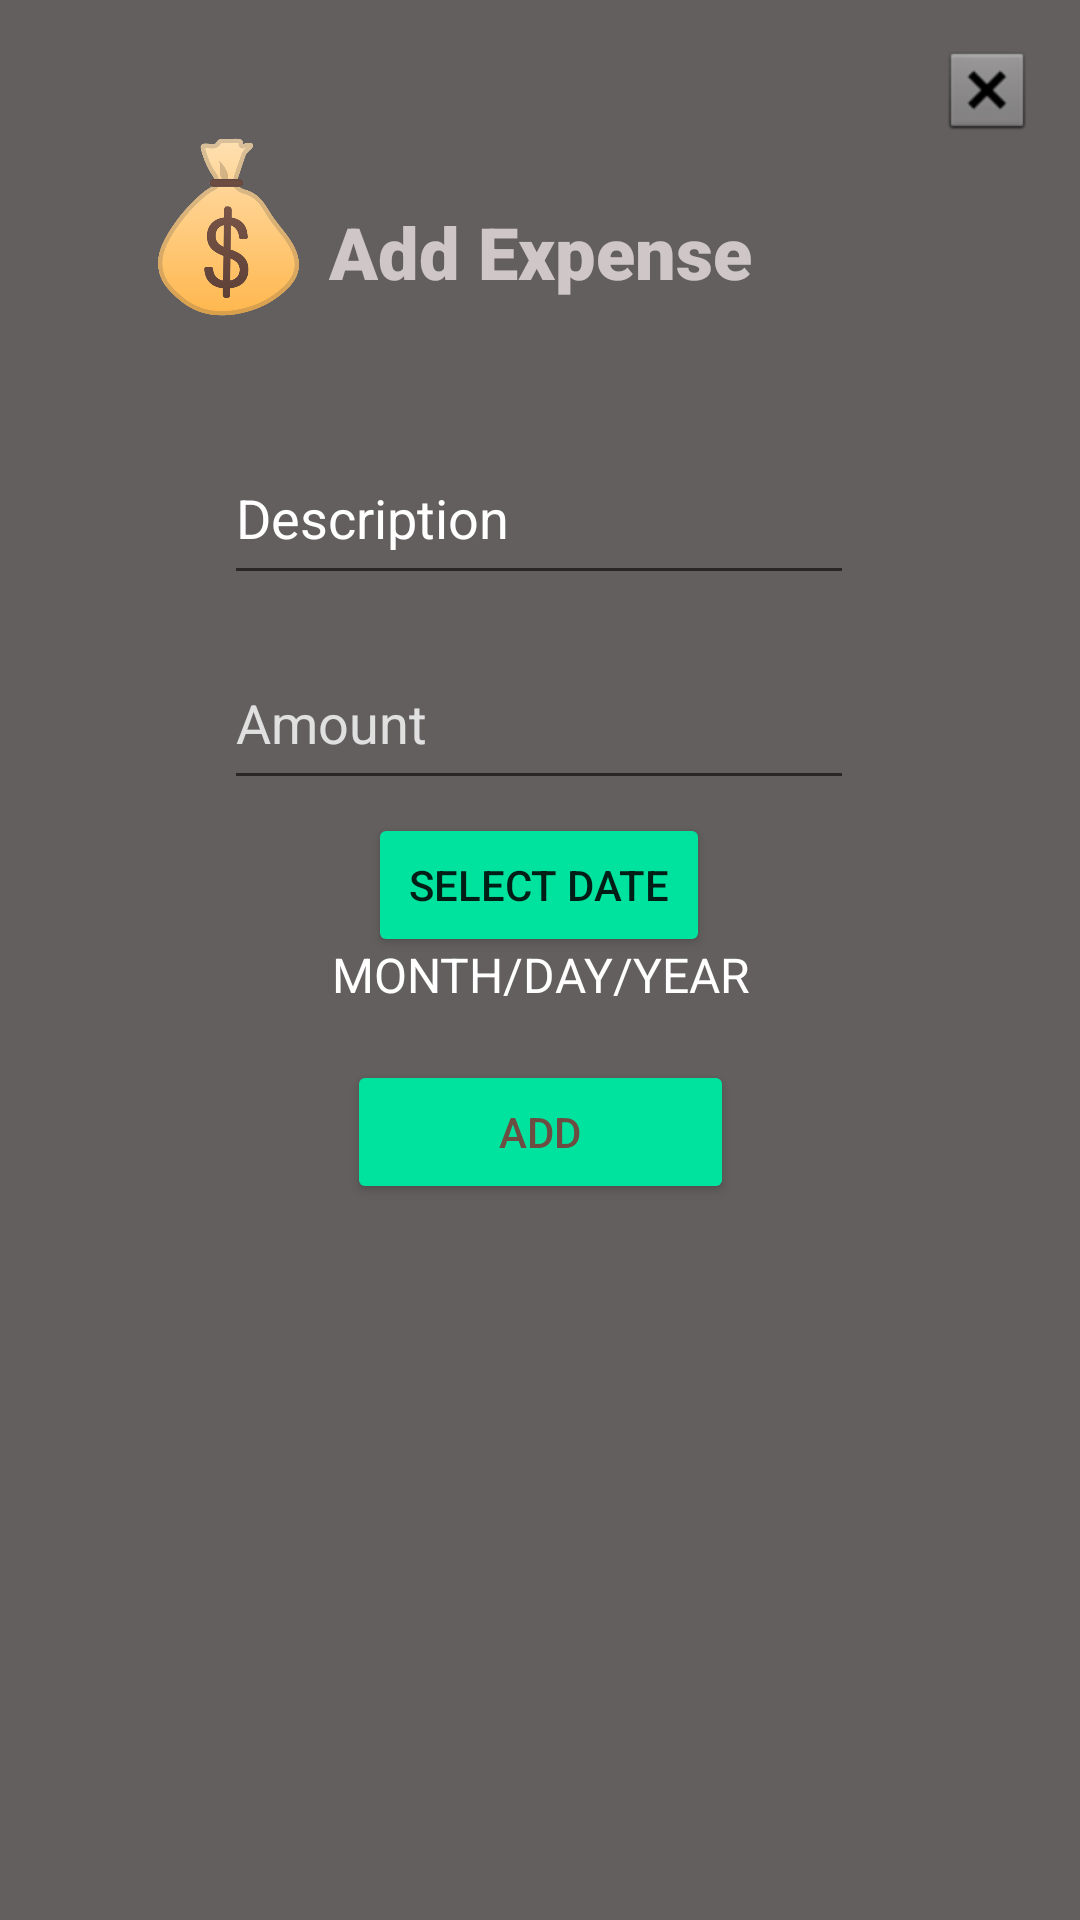

Icons on this 1080 x 1920 Android screen, each with the point to tap as point (x, y):
money: point (228, 227)
